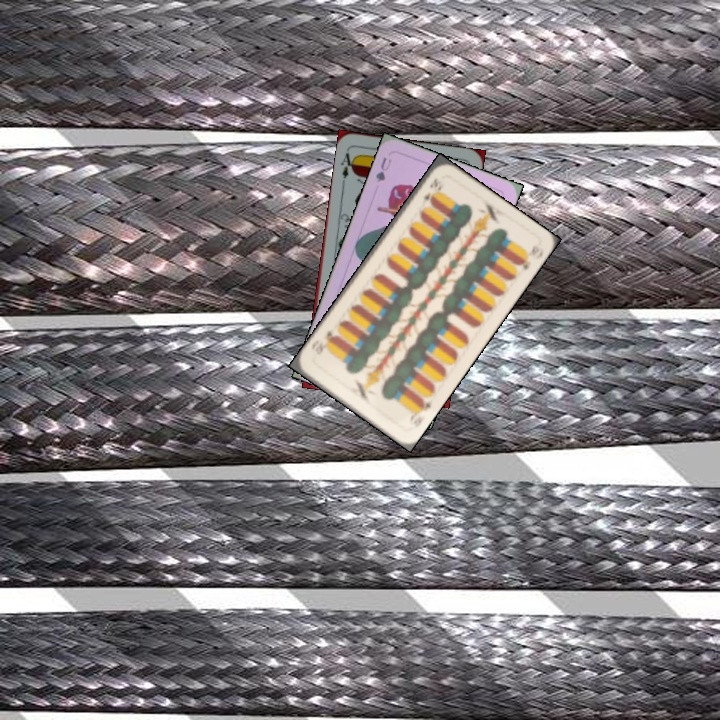E10: (405, 394, 435, 429), (417, 173, 444, 209)
EA: (337, 149, 358, 186)
GU: (372, 153, 394, 185)
